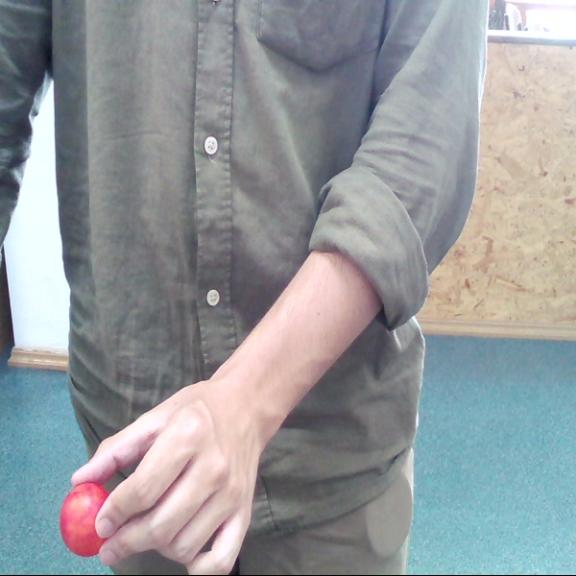ball: (59, 485, 112, 557)
